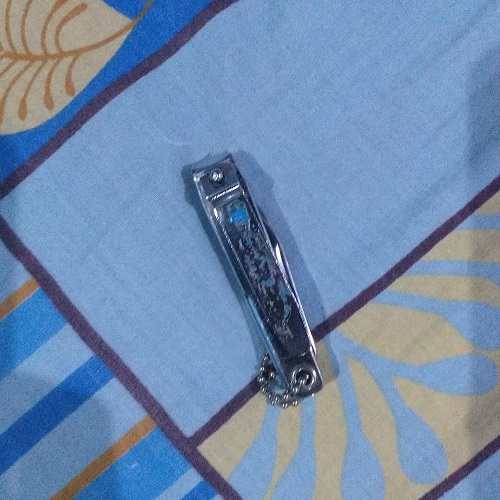nailcutter: (163, 133, 341, 413)
